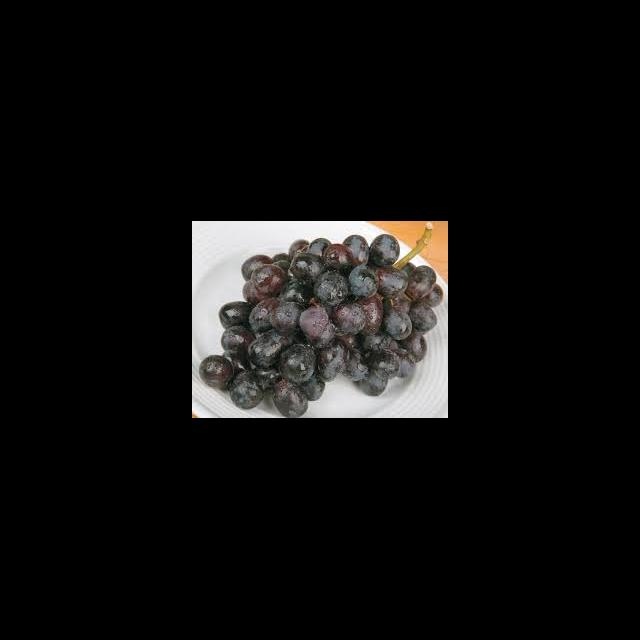grape: (198, 233, 443, 418)
